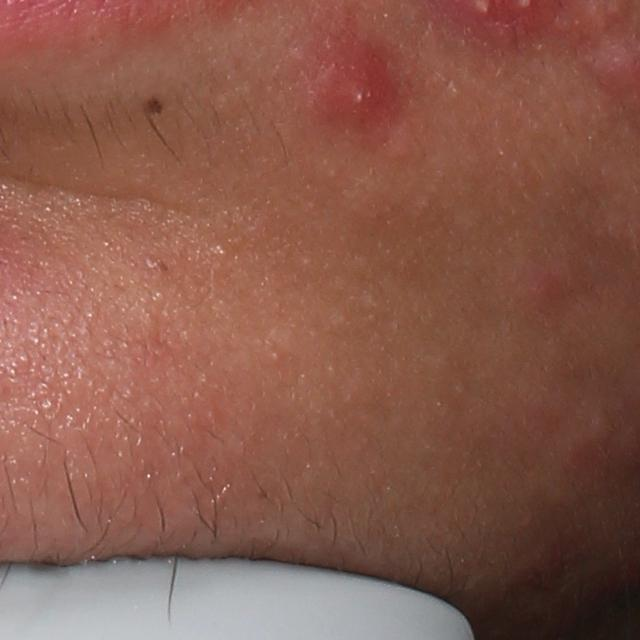nevus: (143, 92, 170, 120)
papule: (304, 31, 416, 152), (516, 260, 577, 330)
